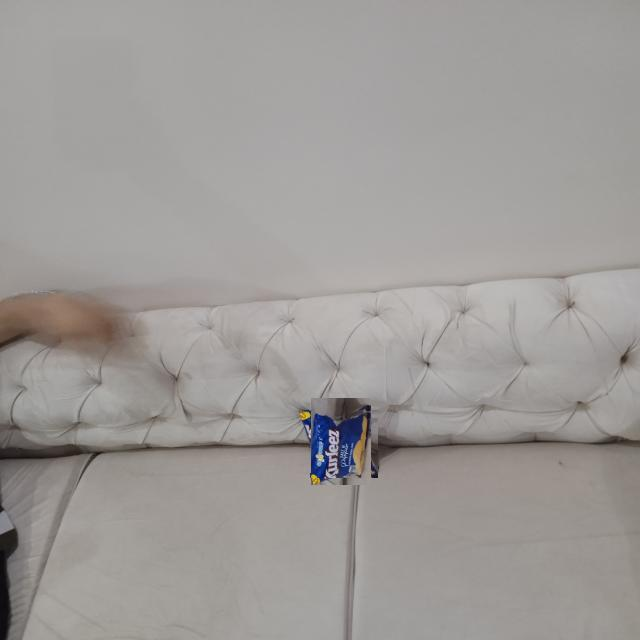Plastic: (304, 404, 378, 478)
